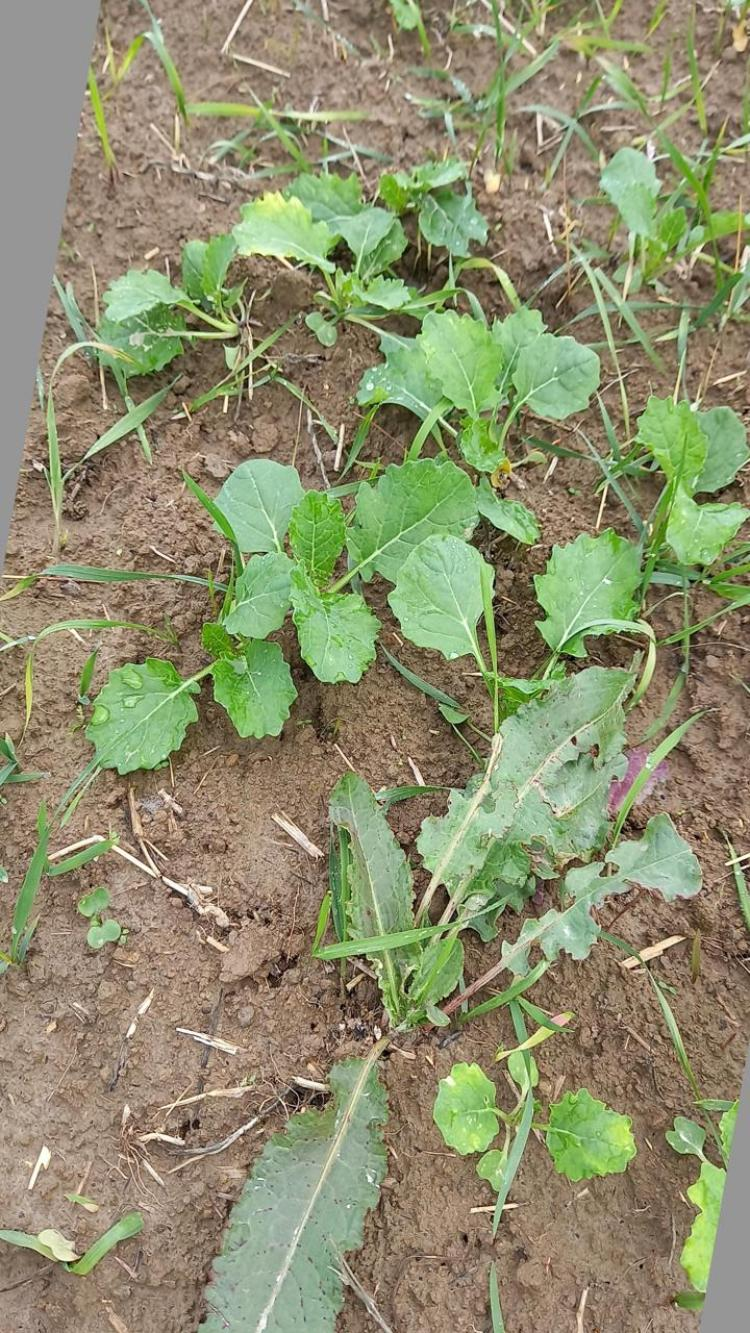zhavel: (200, 664, 700, 1333)
